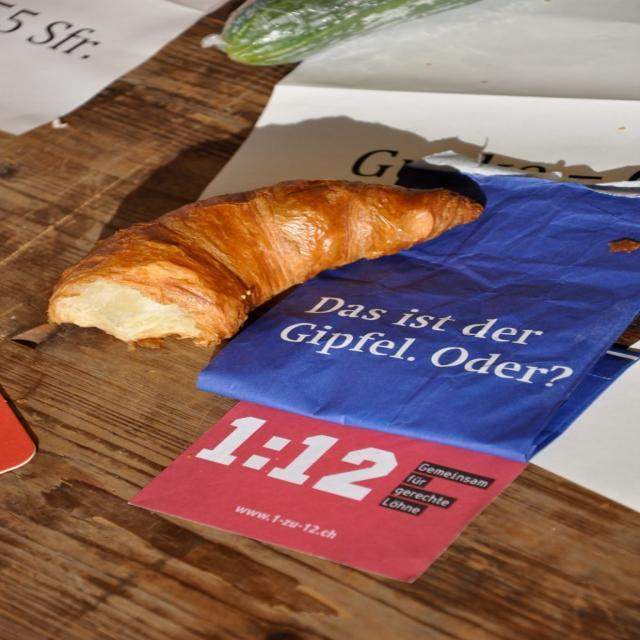Croissant: (43, 180, 479, 355)
